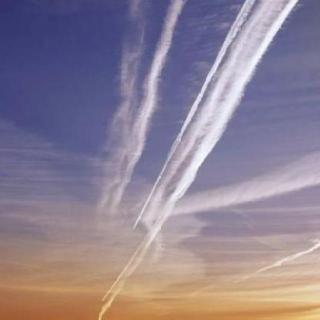Contrails: (98, 0, 320, 320)
